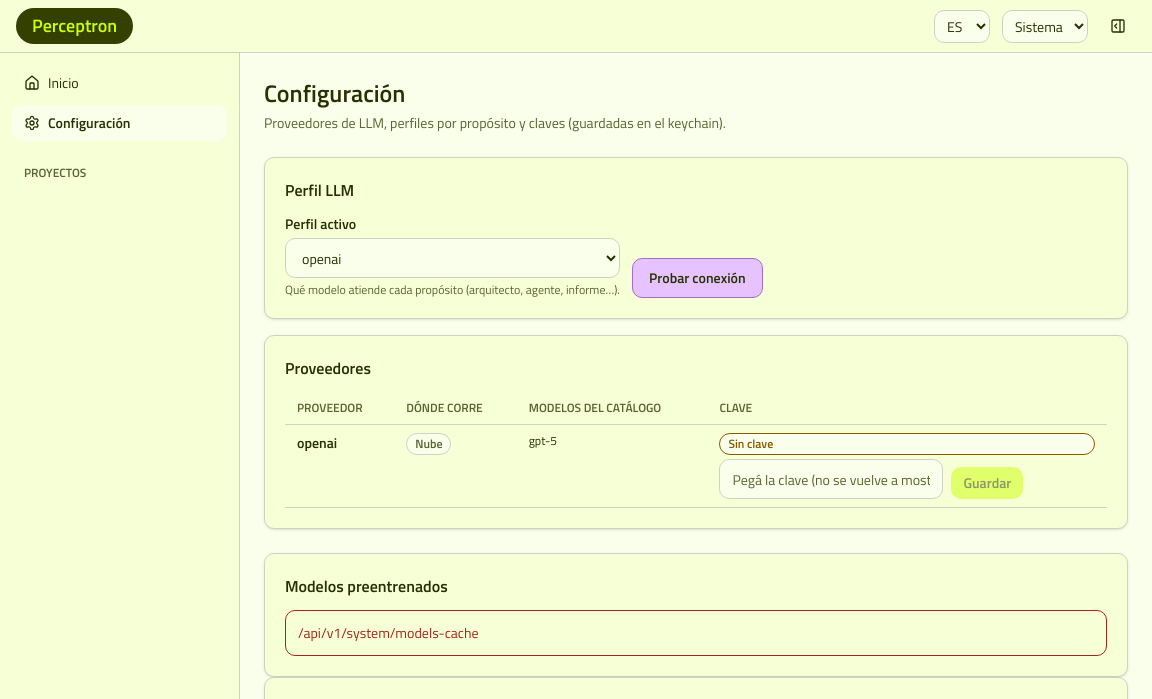
pantallas › Configuración: la clave se envía una vez y no se muestra
The width and height of the screenshot is (1152, 699).
In the password field named "Clave de openai": (831, 479) [719,459,943,499], type "sk-secreto"
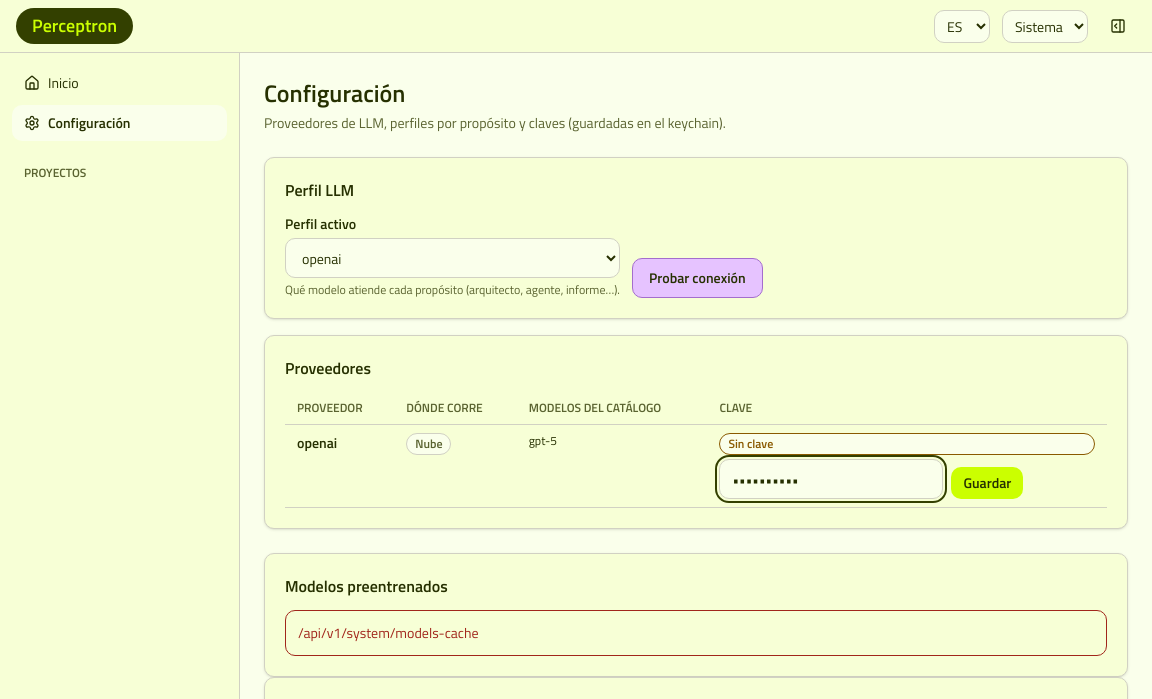
Click the button "Guardar": (987, 483) [951,467,1023,499]
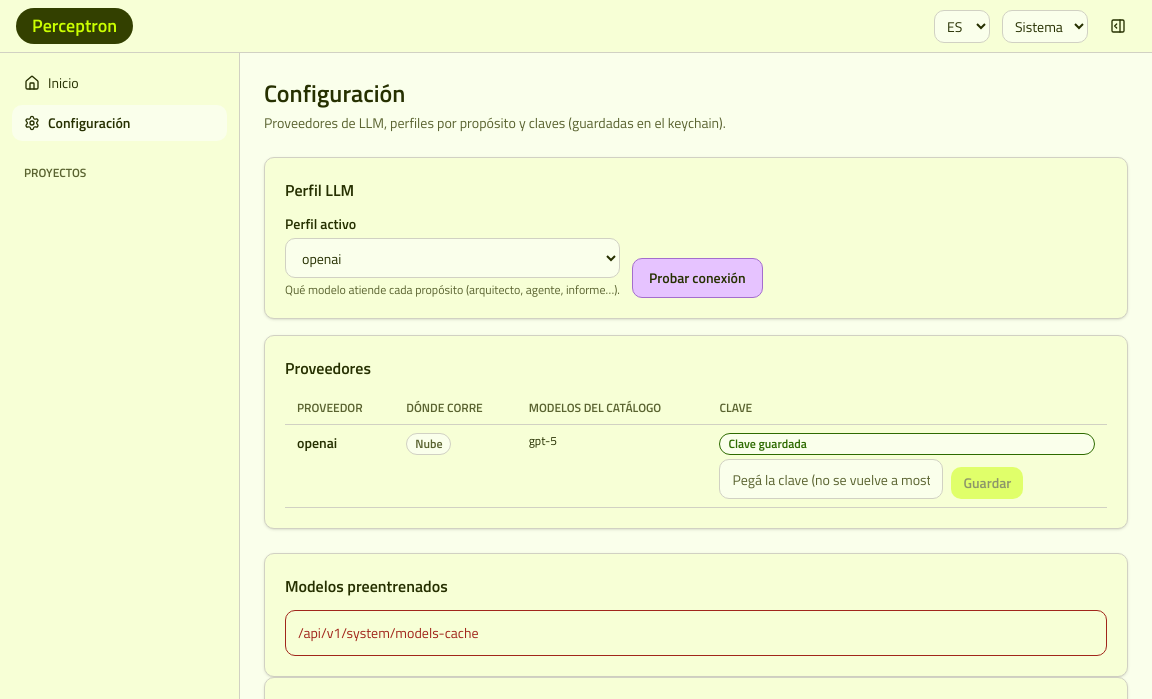
Check: the text "Clave guardada" is shown, box [719,433,1095,455]
Check: the password field named "Clave de openai" is empty, box [719,459,943,499]
